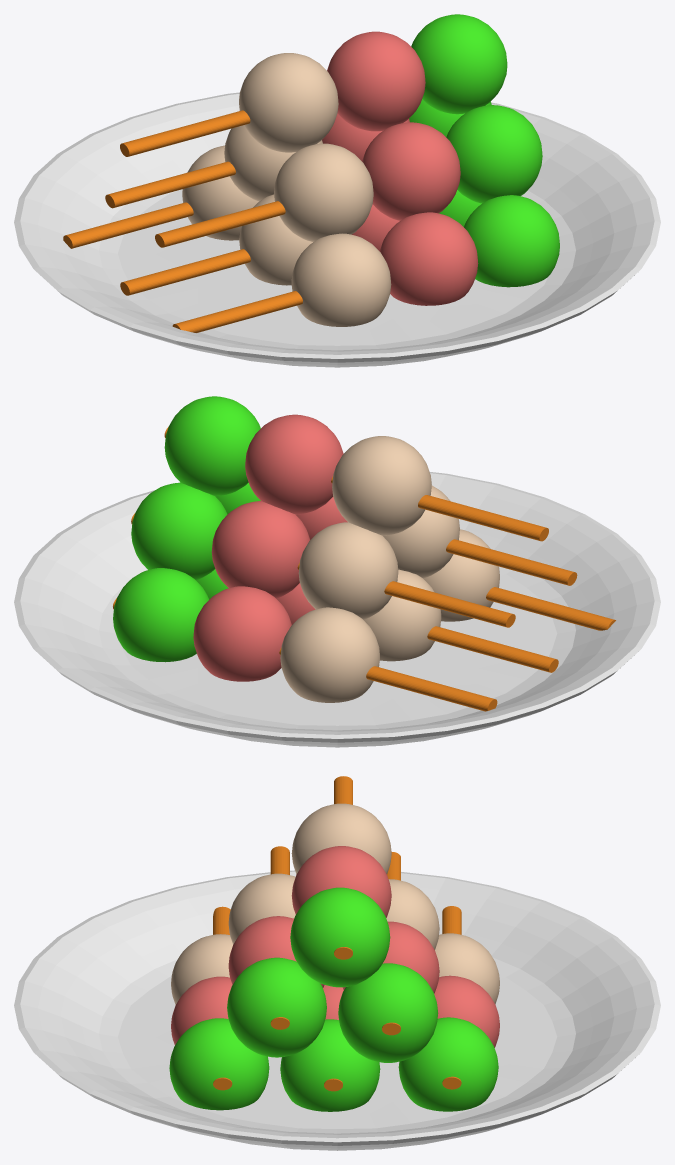
File: KUE CENDIL.fbx
3 views of the same model, one above another, from view 1: azimuth 30°, elevation 25°; view 2: azimuth 150°, elevation 25°; view 3: azimuth 270°, elevation 25° (orthographic).
Visible parts, largest first — view 1: Cylinder, Sphere.017, Sphere.011, Sphere.016, Sphere.008, Sphere.010, Sphere.007, Sphere.015, Sphere.009, Sphere.006, Sphere.005, Sphere.002 (+11 smaller); view 2: Cylinder, Sphere.017, Sphere.002, Sphere.016, Sphere.001, Sphere.014, Sphere.015, Sphere.013, Sphere, Sphere.012, Sphere.005, Sphere.011 (+10 smaller); view 3: Cylinder, Sphere.015, Sphere.009, Sphere.012, Sphere, Sphere.006, Sphere.003, Sphere.017, Sphere.016, Sphere.011, Sphere.001, Sphere.002 (+9 smaller).
Part boxes in pixels (x1,y1,x2,y2): Cylinder: (14,92,660,367); Sphere.017: (239,53,338,152); Sphere.011: (274,143,373,241); Sphere.016: (327,31,425,131); Sphere.008: (291,233,391,326); Sphere.010: (362,122,460,220); Sphere.007: (379,212,478,305); Sphere.015: (411,14,507,114); Sphere.009: (446,105,542,203); Sphere.006: (464,195,559,287); Sphere.005: (239,194,312,285); Sphere.002: (182,145,258,240); Cylinder: (14,472,660,747); Sphere.017: (332,436,431,535); Sphere.002: (280,607,379,702); Sphere.016: (245,414,343,514); Sphere.001: (193,586,291,681); Sphere.014: (298,522,398,619); Sphere.015: (164,396,260,496); Sphere.013: (211,501,309,598); Sphere: (113,568,208,662); Sphere.012: (131,482,227,579); Sphere.005: (363,569,441,661); Sphere.011: (383,485,459,578); Cylinder: (14,870,660,1150); Sphere.015: (290,887,390,987); Sphere.009: (227,957,326,1057); Sphere.012: (338,963,438,1062); Sphere: (398,1017,498,1111); Sphere.006: (169,1018,269,1110); Sphere.003: (280,1019,380,1111); Sphere.017: (291,803,391,874); Sphere.016: (291,846,391,917); Sphere.011: (228,873,295,944); Sphere.001: (434,975,499,1047); Sphere.002: (435,933,499,1003).
Bounding box in the file's own units: 231 × 89.33 × 231.
